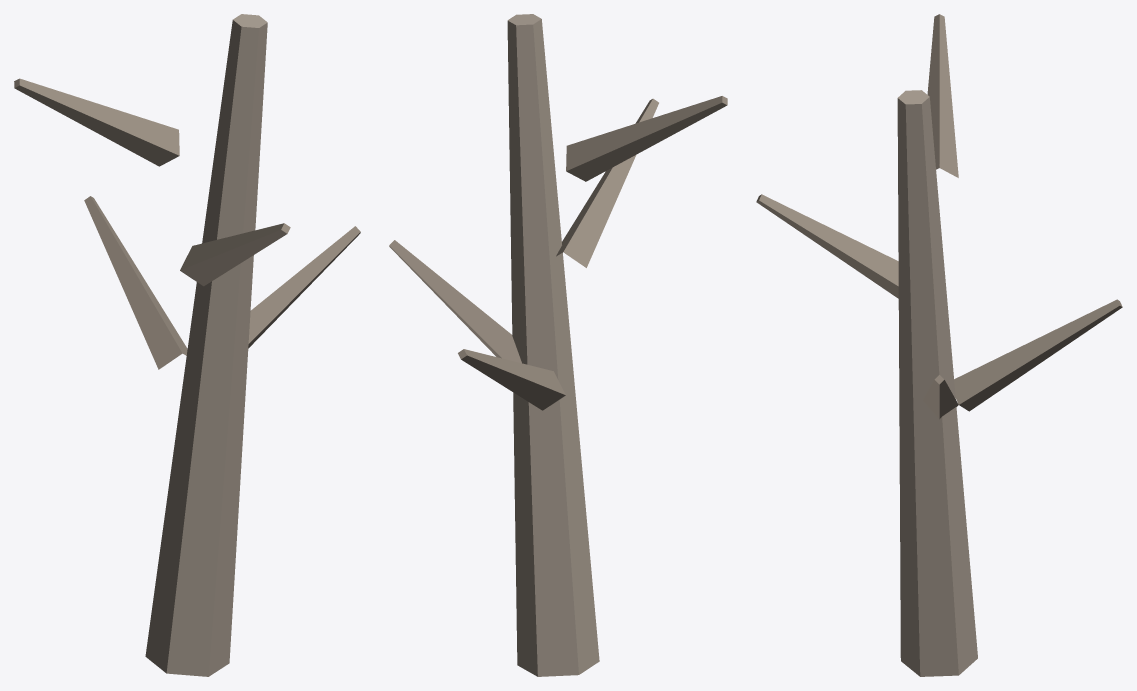
The model's file is deadtree_v29.glb.
The picture shows the model from 3 angles, left to right: view 1: azimuth 30°, elevation 25°; view 2: azimuth 150°, elevation 25°; view 3: azimuth 270°, elevation 25°; orthographic projection. The views are drawn at different scales.
Visible parts, largest first — view 1: lod0; view 2: lod0; view 3: lod0.
Boxes of the visible parts, x1,y1,x2,y2 form: lod0: (14,14,360,676); lod0: (389,14,727,676); lod0: (756,14,1122,676).
Size of what is drawn, in the model's own units: 3.24 by 5.74 by 3.24.
